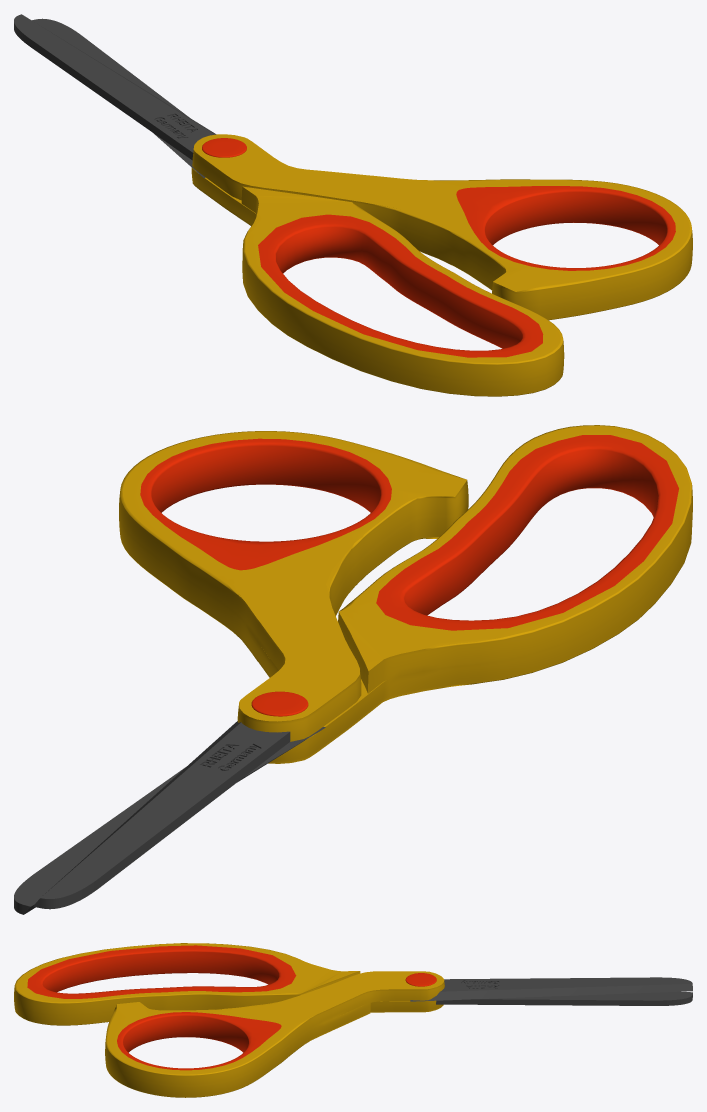
File: scissors.FBX
3 views of the same model, one above another, from view 1: azimuth 30°, elevation 25°; view 2: azimuth 150°, elevation 25°; view 3: azimuth 270°, elevation 25° (orthographic). The views are drawn at different scales.
Parts seen in each view (by area): view 1: Cylinder004, Cylinder008, Cylinder007, Cylinder006, Box002, Box001, Mid; view 2: Cylinder004, Cylinder008, Cylinder007, Cylinder006, Box002, Box001, Mid; view 3: Cylinder004, Cylinder008, Cylinder007, Box002, Cylinder006, Box001, Mid.
Boxes of the visible parts, <box> form: Cylinder004: <box>192,134,692,320</box>; Cylinder008: <box>191,168,564,396</box>; Cylinder007: <box>258,214,543,357</box>; Cylinder006: <box>456,186,675,270</box>; Box002: <box>14,14,216,160</box>; Box001: <box>32,18,205,177</box>; Mid: <box>202,138,246,157</box>; Cylinder004: <box>119,431,468,741</box>; Cylinder008: <box>268,425,692,763</box>; Cylinder007: <box>376,435,678,630</box>; Cylinder006: <box>140,438,391,570</box>; Box002: <box>33,721,290,909</box>; Box001: <box>14,727,325,914</box>; Mid: <box>251,691,308,716</box>; Cylinder004: <box>105,971,444,1097</box>; Cylinder008: <box>14,943,443,1025</box>; Cylinder007: <box>27,945,296,998</box>; Box002: <box>410,977,692,1001</box>; Cylinder006: <box>117,1012,281,1070</box>; Box001: <box>436,991,692,1005</box>; Mid: <box>405,973,436,986</box>.
Bounding box in the file's own units: 103 × 8.96 × 223.
